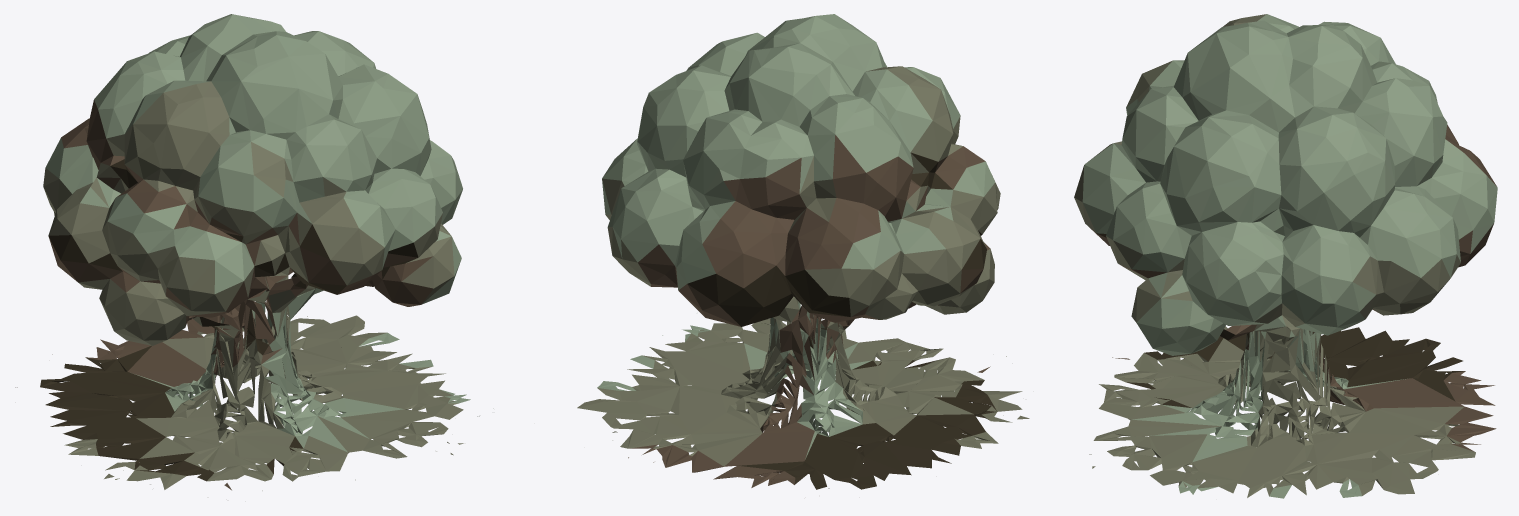
The model's file is tree_oak.glb.
The picture shows the model from 3 angles, left to right: view 1: azimuth 30°, elevation 25°; view 2: azimuth 150°, elevation 25°; view 3: azimuth 270°, elevation 25°; orthographic projection. The views are drawn at different scales.
Parts seen in each view (by area): view 1: geometry_0; view 2: geometry_0; view 3: geometry_0.
Boxes of the visible parts, <box> form: geometry_0: <box>15,14,493,490</box>; geometry_0: <box>577,14,1029,489</box>; geometry_0: <box>1074,14,1497,498</box>.
Size of the model in its own units: 1.98 by 1.9 by 1.96.
